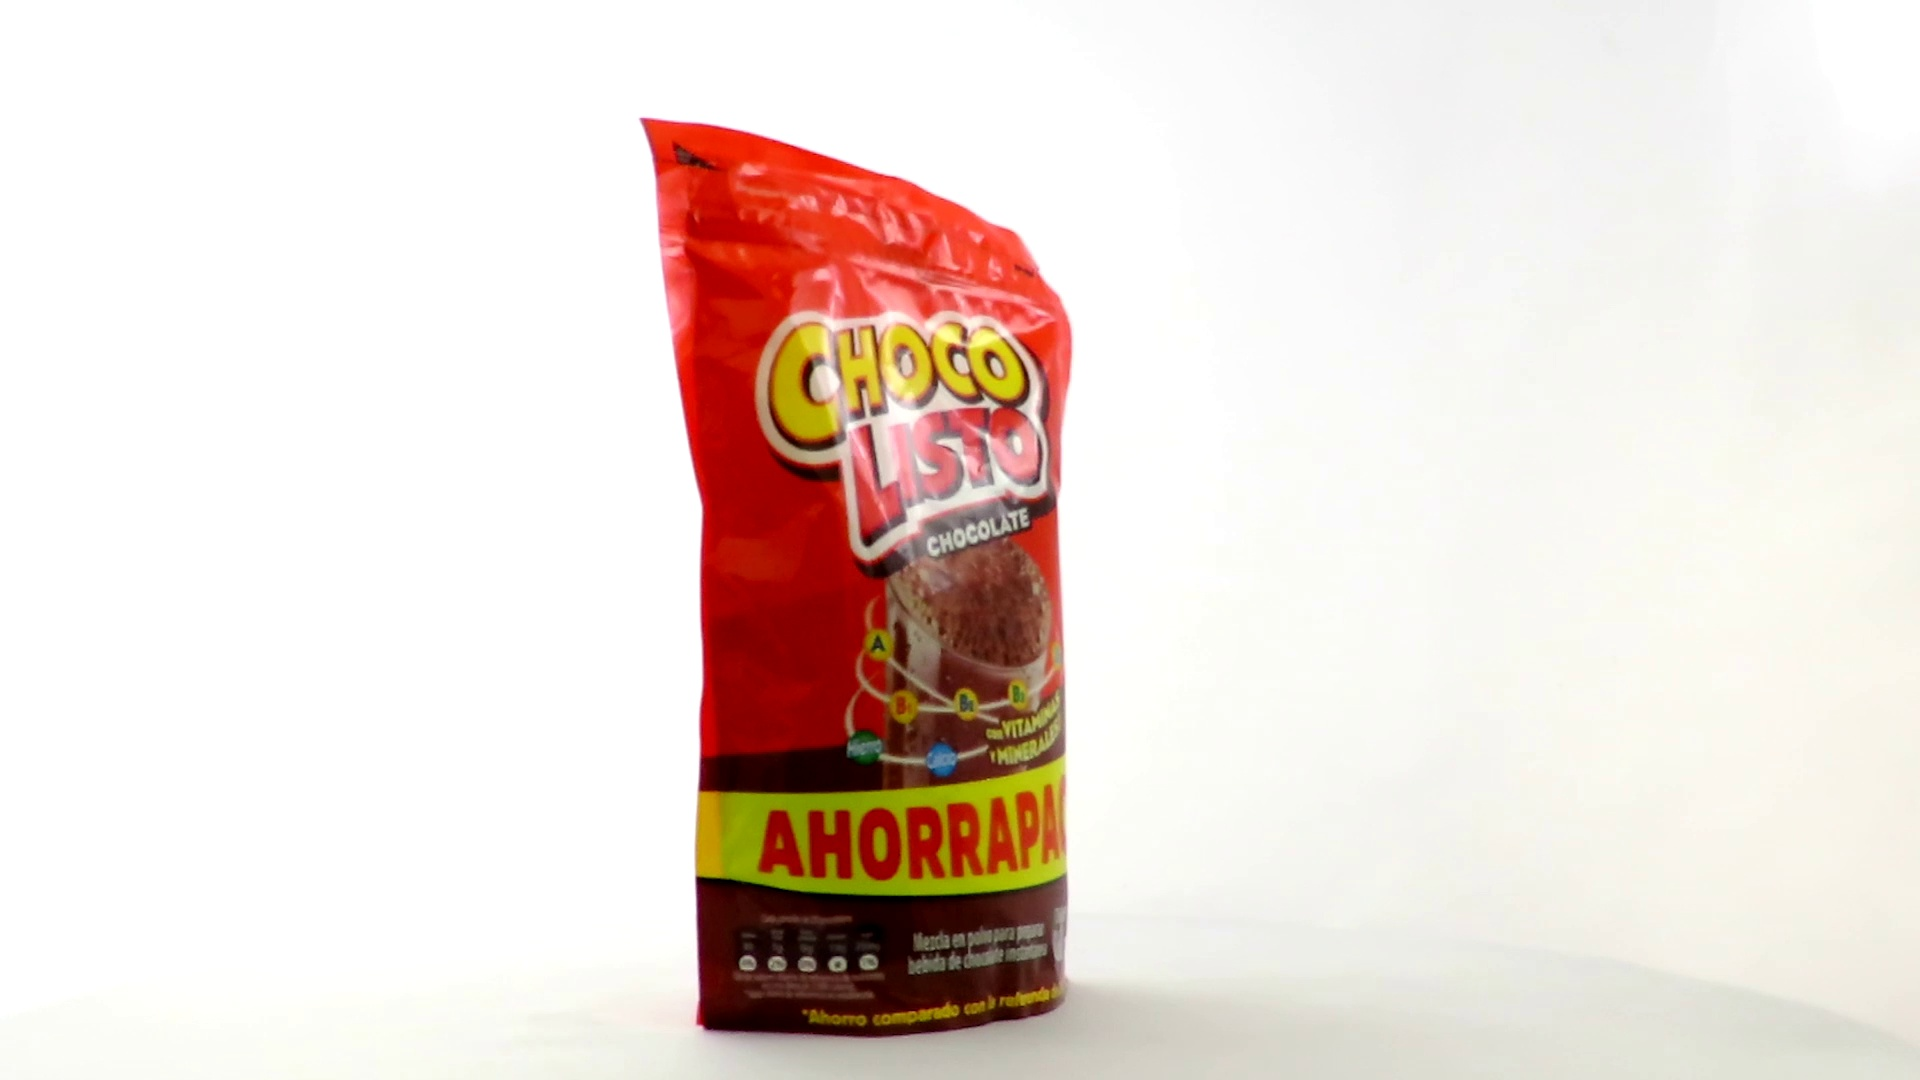COL0170103DYP36000: (634, 112, 1087, 1044)
